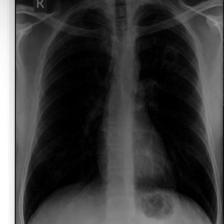tuberculosis: (18, 1, 224, 224)
